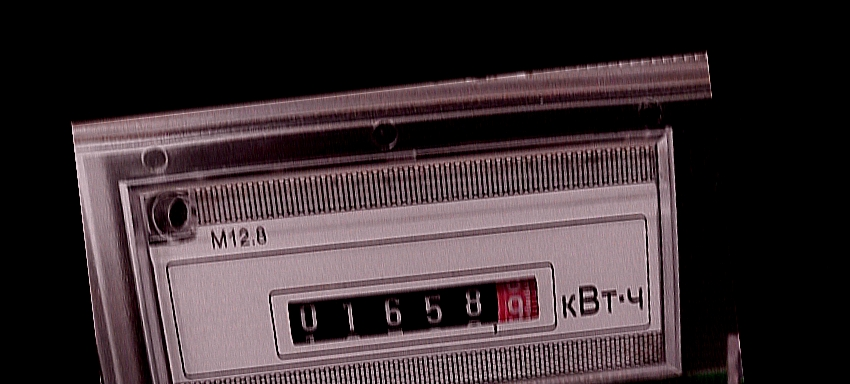0: (300, 298, 323, 331)
1: (343, 297, 364, 331)
5: (425, 289, 449, 323)
6: (385, 291, 408, 326)
8: (465, 282, 489, 316)
9: (507, 291, 531, 321)
screen: (262, 249, 569, 365)
